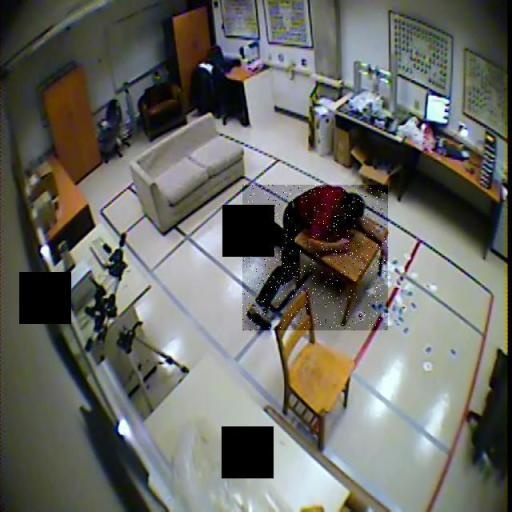Fall: (242, 185, 388, 330)
